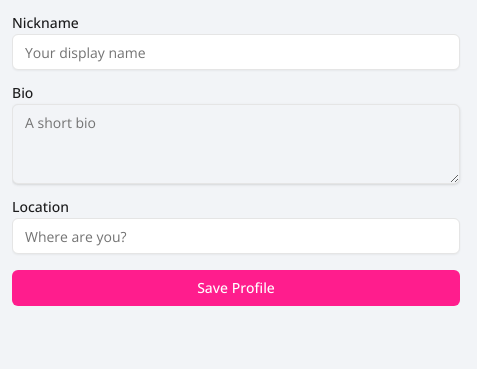
Test: EditProfileForm › shows success state on 200 response
The image size is (477, 369).
Click the button "Save Profile": coordinates (236, 288) [12,270,460,306]
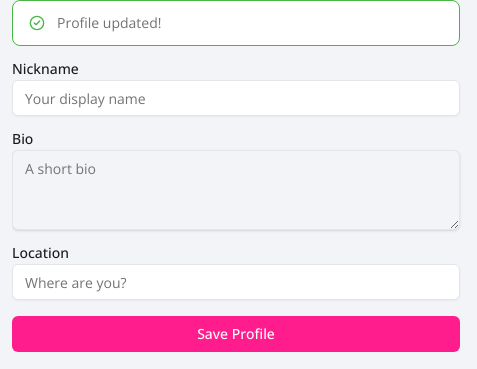
Now the text "Profile updated!" is shown, box [57,13,162,32]
